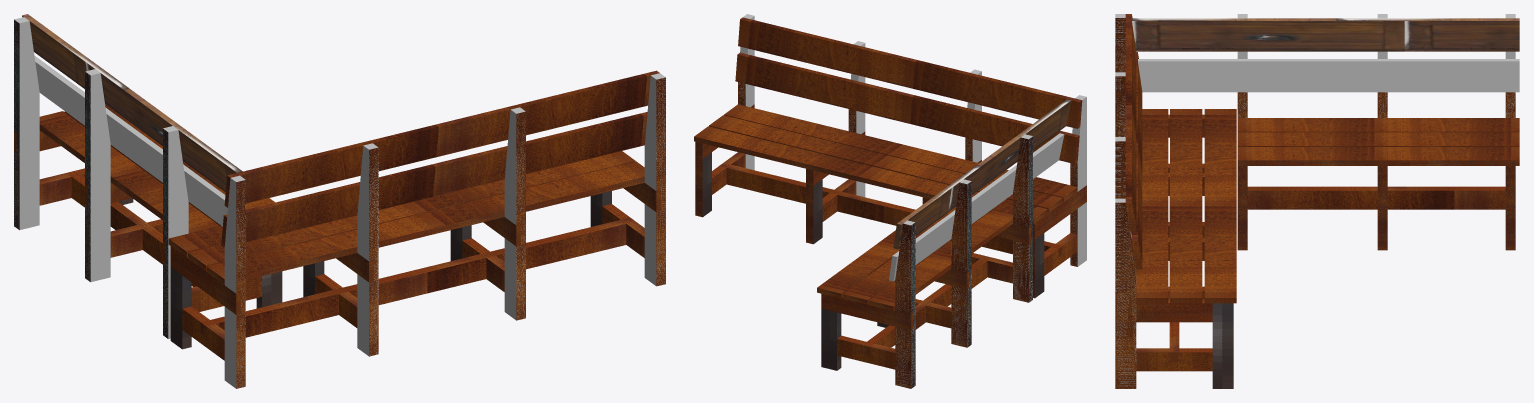
3 renders of one model, left to right at view 1: azimuth 30°, elevation 25°; view 2: azimuth 150°, elevation 25°; view 3: azimuth 270°, elevation 25°, orthographic. The views are drawn at different scales.
Visible parts, largest first — view 1: mesh18_mesh18-geometry, mesh26_mesh26-geometry, mesh9_mesh9-geometry, mesh6_mesh6-geometry, mesh14_mesh14-geometry, mesh24_mesh24-geometry, mesh22_mesh22-geometry, mesh1_mesh1-geometry, mesh12_mesh12-geometry, mesh4_mesh4-geometry, mesh16_mesh16-geometry, mesh20_mesh20-geometry; view 2: mesh18_mesh18-geometry, mesh26_mesh26-geometry, mesh6_mesh6-geometry, mesh4_mesh4-geometry, mesh24_mesh24-geometry, mesh14_mesh14-geometry, mesh1_mesh1-geometry, mesh9_mesh9-geometry, mesh22_mesh22-geometry, mesh12_mesh12-geometry, mesh16_mesh16-geometry, mesh20_mesh20-geometry; view 3: mesh26_mesh26-geometry, mesh24_mesh24-geometry, mesh22_mesh22-geometry, mesh20_mesh20-geometry, mesh9_mesh9-geometry, mesh4_mesh4-geometry, mesh18_mesh18-geometry, mesh1_mesh1-geometry, mesh16_mesh16-geometry, mesh6_mesh6-geometry, mesh14_mesh14-geometry.
Part boxes in pixels (x1=…): mesh18_mesh18-geometry: x1=221, y1=70, x2=659, y2=247; mesh26_mesh26-geometry: x1=39, y1=104, x2=644, y2=284; mesh9_mesh9-geometry: x1=224, y1=73, x2=665, y2=388; mesh6_mesh6-geometry: x1=14, y1=17, x2=188, y2=338; mesh14_mesh14-geometry: x1=200, y1=217, x2=635, y2=337; mesh24_mesh24-geometry: x1=22, y1=14, x2=242, y2=191; mesh22_mesh22-geometry: x1=34, y1=55, x2=227, y2=226; mesh1_mesh1-geometry: x1=14, y1=130, x2=661, y2=314; mesh12_mesh12-geometry: x1=39, y1=168, x2=357, y2=360; mesh4_mesh4-geometry: x1=118, y1=191, x2=611, y2=349; mesh16_mesh16-geometry: x1=191, y1=204, x2=644, y2=311; mesh20_mesh20-geometry: x1=67, y1=170, x2=196, y2=286; mesh18_mesh18-geometry: x1=735, y1=17, x2=1082, y2=163; mesh26_mesh26-geometry: x1=694, y1=104, x2=1077, y2=310; mesh6_mesh6-geometry: x1=895, y1=134, x2=1032, y2=388; mesh4_mesh4-geometry: x1=695, y1=141, x2=1044, y2=370; mesh24_mesh24-geometry: x1=893, y1=99, x2=1071, y2=249; mesh14_mesh14-geometry: x1=719, y1=163, x2=1062, y2=256; mesh1_mesh1-geometry: x1=699, y1=104, x2=1086, y2=330; mesh9_mesh9-geometry: x1=738, y1=14, x2=1086, y2=266; mesh22_mesh22-geometry: x1=889, y1=133, x2=1064, y2=281; mesh12_mesh12-geometry: x1=837, y1=233, x2=1077, y2=369; mesh16_mesh16-geometry: x1=712, y1=152, x2=1012, y2=283; mesh20_mesh20-geometry: x1=862, y1=255, x2=991, y2=354; mesh26_mesh26-geometry: x1=1136, y1=109, x2=1519, y2=303; mesh24_mesh24-geometry: x1=1132, y1=18, x2=1519, y2=51; mesh22_mesh22-geometry: x1=1138, y1=59, x2=1519, y2=92; mesh20_mesh20-geometry: x1=1247, y1=186, x2=1505, y2=209; mesh9_mesh9-geometry: x1=1115, y1=14, x2=1136, y2=388; mesh4_mesh4-geometry: x1=1212, y1=166, x2=1515, y2=388; mesh18_mesh18-geometry: x1=1125, y1=14, x2=1142, y2=269; mesh1_mesh1-geometry: x1=1136, y1=114, x2=1515, y2=322; mesh16_mesh16-geometry: x1=1136, y1=286, x2=1212, y2=371; mesh6_mesh6-geometry: x1=1237, y1=14, x2=1515, y2=117; mesh14_mesh14-geometry: x1=1169, y1=164, x2=1179, y2=361.
Bounding box in the file's own units: 0.7018 × 0.3227 × 0.6351.
